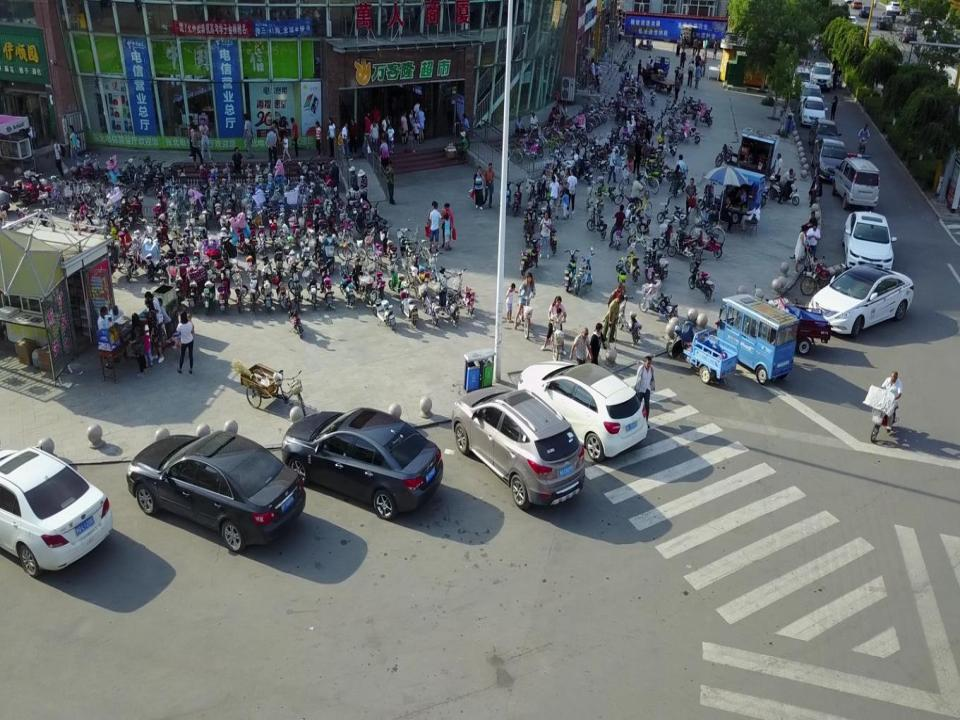car: (126, 430, 306, 554), (282, 407, 443, 520), (451, 384, 585, 510), (0, 446, 113, 578), (517, 360, 648, 463), (808, 264, 914, 339), (842, 210, 897, 277), (810, 138, 848, 182), (808, 119, 842, 155), (798, 95, 828, 129), (798, 84, 824, 113), (810, 61, 832, 91), (904, 8, 925, 25), (898, 28, 918, 44), (876, 14, 893, 31), (885, 1, 901, 15), (859, 4, 873, 19), (882, 9, 896, 23), (846, 15, 858, 31), (850, 0, 861, 9)
van: (832, 153, 880, 213), (790, 67, 810, 100)
